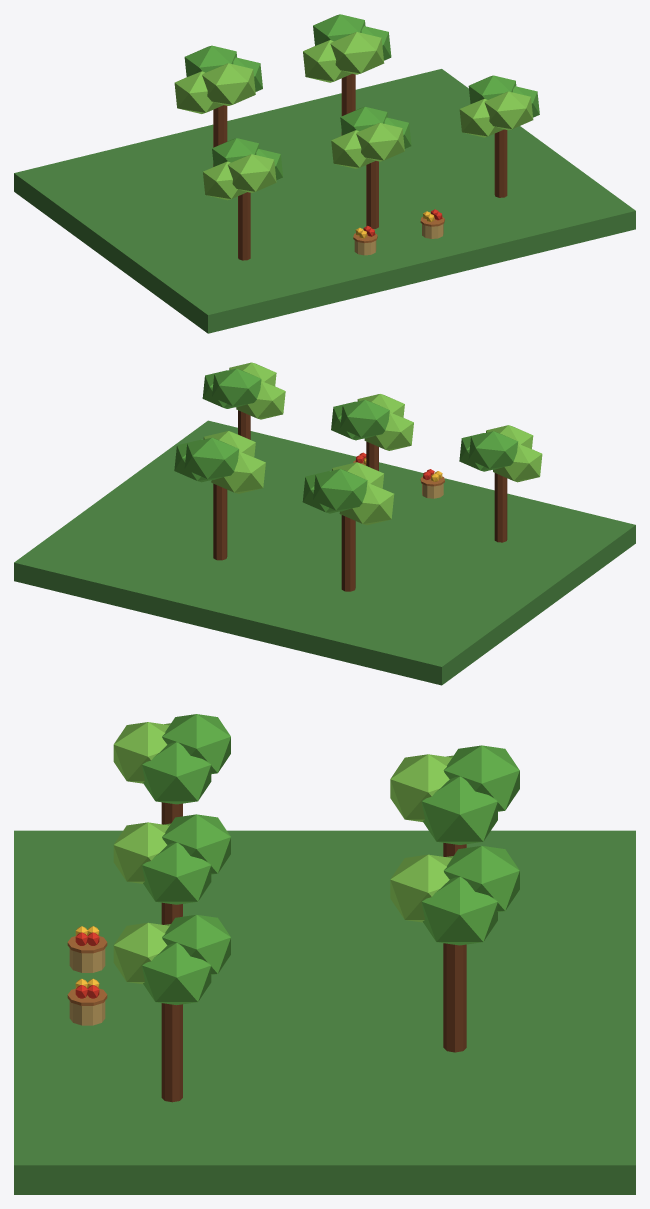
File: fruit_orchard.glb
3 renders of one model, top to bottom at view 1: azimuth 30°, elevation 25°; view 2: azimuth 150°, elevation 25°; view 3: azimuth 270°, elevation 25°, orthographic. The views are drawn at different scales.
Parts seen in each view (by area): view 1: TerrainBase, FruitTreeCrown.014, FruitTreeCrown.018, FruitTreeCrown.010, FruitTreeCrown.002, FruitTreeCrown.006, FruitTreeCrown.012, FruitTreeCrown.016, FruitTreeCrown.015, FruitTreeCrown.019, FruitTreeCrown.008, FruitTreeCrown.004 (+9 smaller); view 2: TerrainBase, FruitTreeCrown.015, FruitTreeCrown.019, FruitTreeCrown.007, FruitTreeCrown.003, FruitTreeCrown.011, FruitTreeCrown.012, FruitTreeCrown.016, FruitTreeTrunk.003, FruitTreeTrunk.004, FruitTreeCrown.004, FruitTreeCrown.008 (+9 smaller); view 3: TerrainBase, FruitTreeCrown.013, FruitTreeCrown.017, FruitTreeCrown.001, FruitTreeCrown.009, FruitTreeCrown.005, FruitTreeCrown.015, FruitTreeCrown.019, FruitTreeCrown.018, FruitTreeCrown.014, FruitTreeTrunk.004, FruitTreeCrown.011 (+8 smaller).
Boxes of the visible parts, x1=… form: TerrainBase: x1=14, y1=69, x2=635, y2=333; FruitTreeCrown.014: x1=202, y1=63, x2=255, y2=105; FruitTreeCrown.018: x1=330, y1=32, x2=384, y2=74; FruitTreeCrown.010: x1=484, y1=91, x2=533, y2=130; FruitTreeCrown.002: x1=228, y1=154, x2=276, y2=192; FruitTreeCrown.006: x1=356, y1=123, x2=404, y2=161; FruitTreeCrown.012: x1=174, y1=71, x2=223, y2=113; FruitTreeCrown.016: x1=303, y1=40, x2=351, y2=82; FruitTreeCrown.015: x1=184, y1=45, x2=236, y2=76; FruitTreeCrown.019: x1=313, y1=14, x2=365, y2=45; FruitTreeCrown.008: x1=459, y1=98, x2=503, y2=137; FruitTreeCrown.004: x1=331, y1=130, x2=375, y2=168; TerrainBase: x1=14, y1=420, x2=635, y2=685; FruitTreeCrown.015: x1=313, y1=469, x2=367, y2=511; FruitTreeCrown.019: x1=184, y1=437, x2=238, y2=480; FruitTreeCrown.007: x1=340, y1=400, x2=389, y2=438; FruitTreeCrown.003: x1=468, y1=431, x2=518, y2=469; FruitTreeCrown.011: x1=212, y1=368, x2=261, y2=407; FruitTreeCrown.012: x1=339, y1=482, x2=394, y2=525; FruitTreeCrown.016: x1=211, y1=451, x2=265, y2=493; FruitTreeTrunk.003: x1=341, y1=515, x2=355, y2=591; FruitTreeTrunk.004: x1=213, y1=483, x2=227, y2=560; FruitTreeCrown.004: x1=364, y1=412, x2=413, y2=450; FruitTreeCrown.008: x1=236, y1=381, x2=285, y2=419; TerrainBase: x1=14, y1=830, x2=635, y2=1194; FruitTreeCrown.013: x1=422, y1=776, x2=497, y2=844; FruitTreeCrown.017: x1=422, y1=877, x2=497, y2=945; FruitTreeCrown.001: x1=142, y1=742, x2=211, y2=804; FruitTreeCrown.009: x1=142, y1=943, x2=211, y2=1005; FruitTreeCrown.005: x1=142, y1=842, x2=211, y2=904; FruitTreeCrown.015: x1=443, y1=745, x2=519, y2=811; FruitTreeCrown.019: x1=444, y1=846, x2=519, y2=911; FruitTreeCrown.018: x1=390, y1=854, x2=451, y2=922; FruitTreeCrown.014: x1=390, y1=754, x2=450, y2=821; FruitTreeTrunk.004: x1=443, y1=943, x2=466, y2=1052; FruitTreeCrown.011: x1=162, y1=914, x2=230, y2=974.
Size of the model in its own units: 14 by 4.53 by 11.
